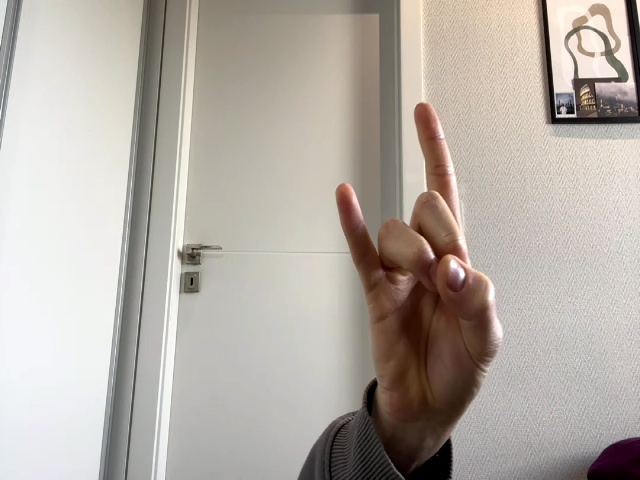Y: (335, 102, 502, 408)
